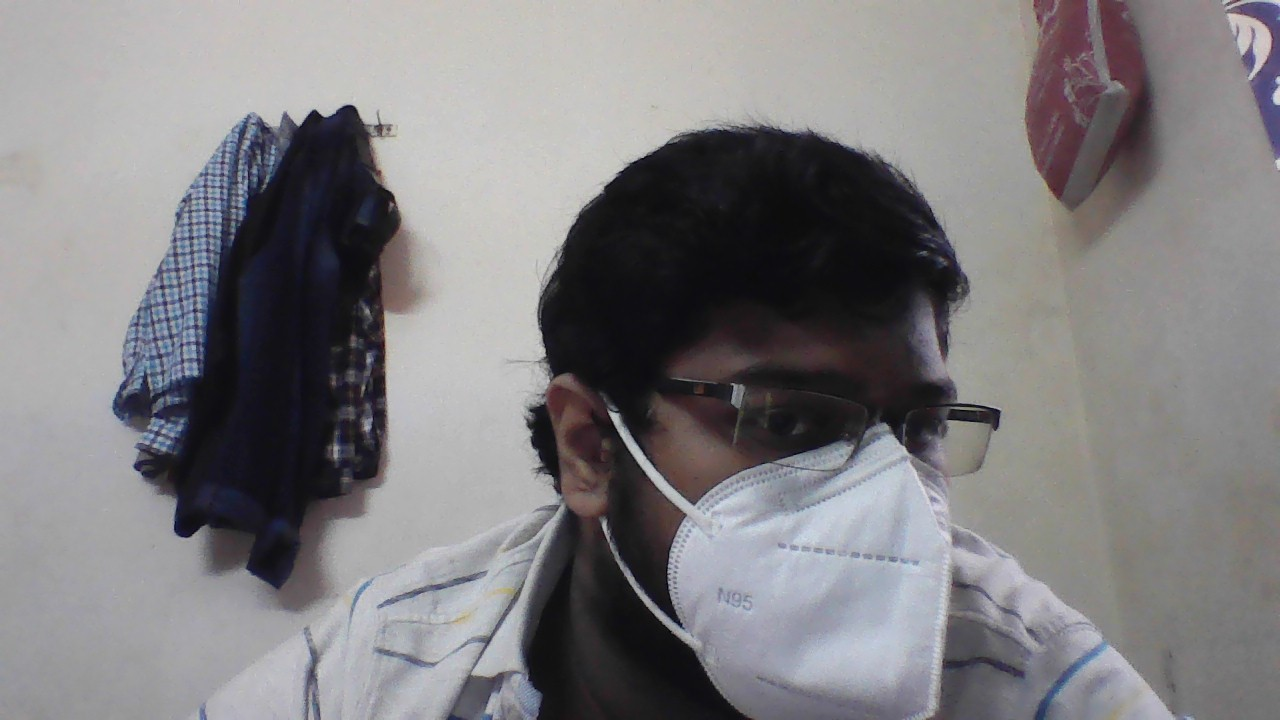Mask: (549, 365, 1004, 640)
